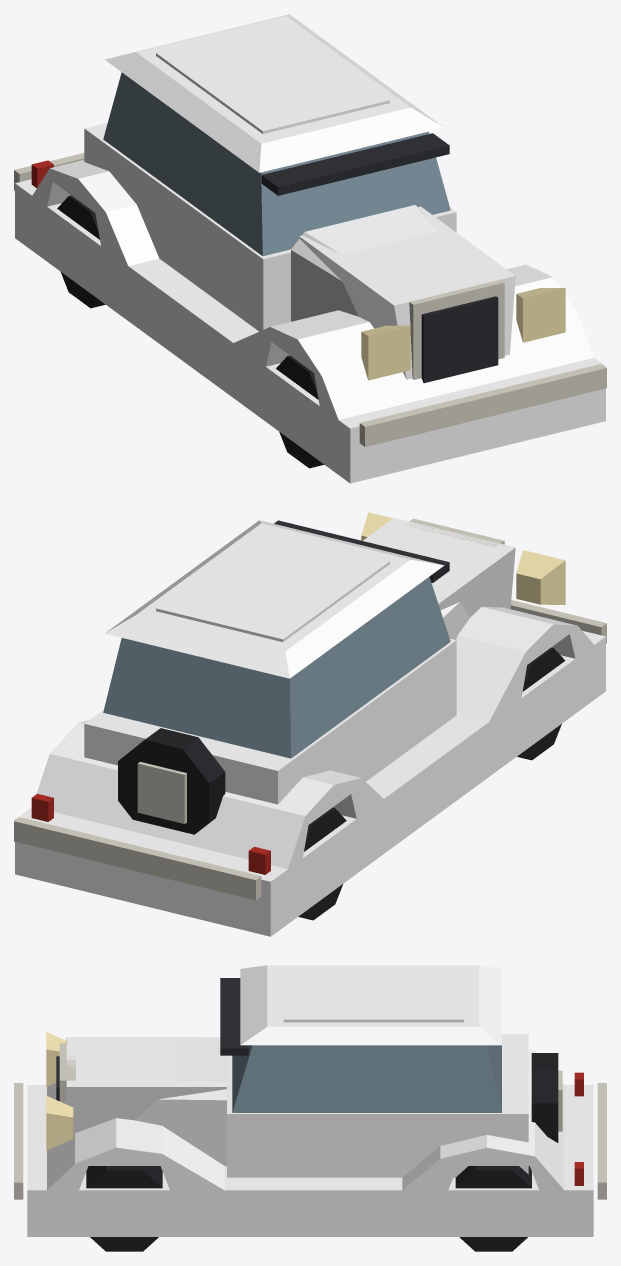
Rendered from car.glb.
The picture shows the model from 3 angles, top to bottom: view 1: azimuth 30°, elevation 25°; view 2: azimuth 150°, elevation 25°; view 3: azimuth 270°, elevation 25°; orthographic projection. The views are drawn at different scales.
Parts seen in each view (by area): view 1: model, far; view 2: model, far; view 3: far, model.
Part boxes in pixels (x1,y1,x2,y2): model: (14, 14, 606, 468); far: (15, 15, 605, 483); model: (14, 512, 606, 920); far: (15, 518, 605, 936); far: (27, 965, 593, 1236); model: (14, 965, 606, 1251).
Bounding box in the file's own units: 1.85 × 1.7 × 4.4.
